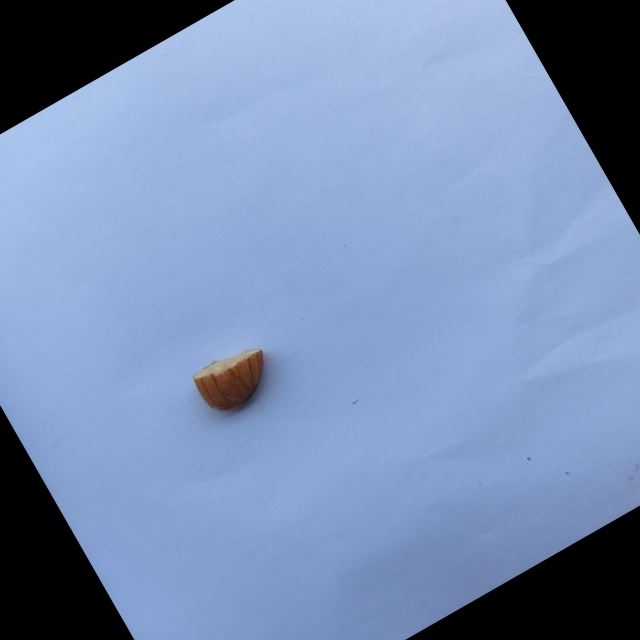grade4: (181, 330, 291, 430)
